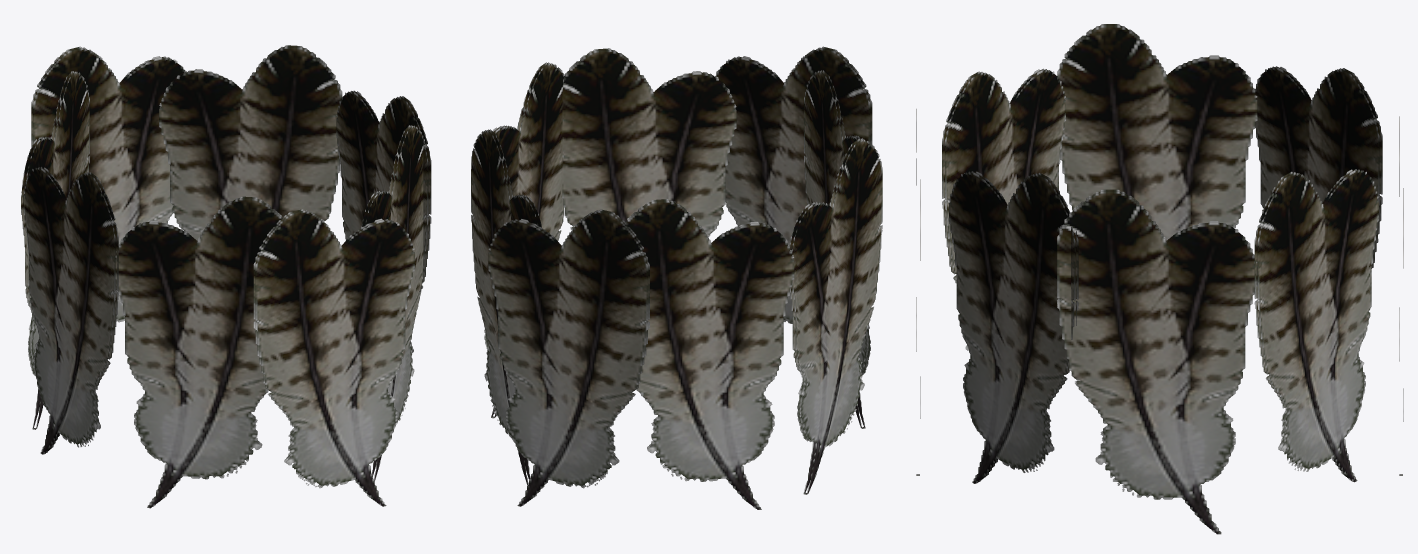
Rendered from helmet_pamp_plume_h.dae.
3 renders of one model, left to right at view 1: azimuth 30°, elevation 25°; view 2: azimuth 150°, elevation 25°; view 3: azimuth 270°, elevation 25°, orthographic. The views are drawn at different scales.
Parts seen in each view (by area): view 1: helmet_plume_h; view 2: helmet_plume_h; view 3: helmet_plume_h.
Boxes of the visible parts, x1,y1,x2,y2 form: helmet_plume_h: (21,45,431,508); helmet_plume_h: (471,46,882,509); helmet_plume_h: (916,24,1403,534).
Bounding box in the file's own units: 0.4635 × 0.5258 × 0.4103.
